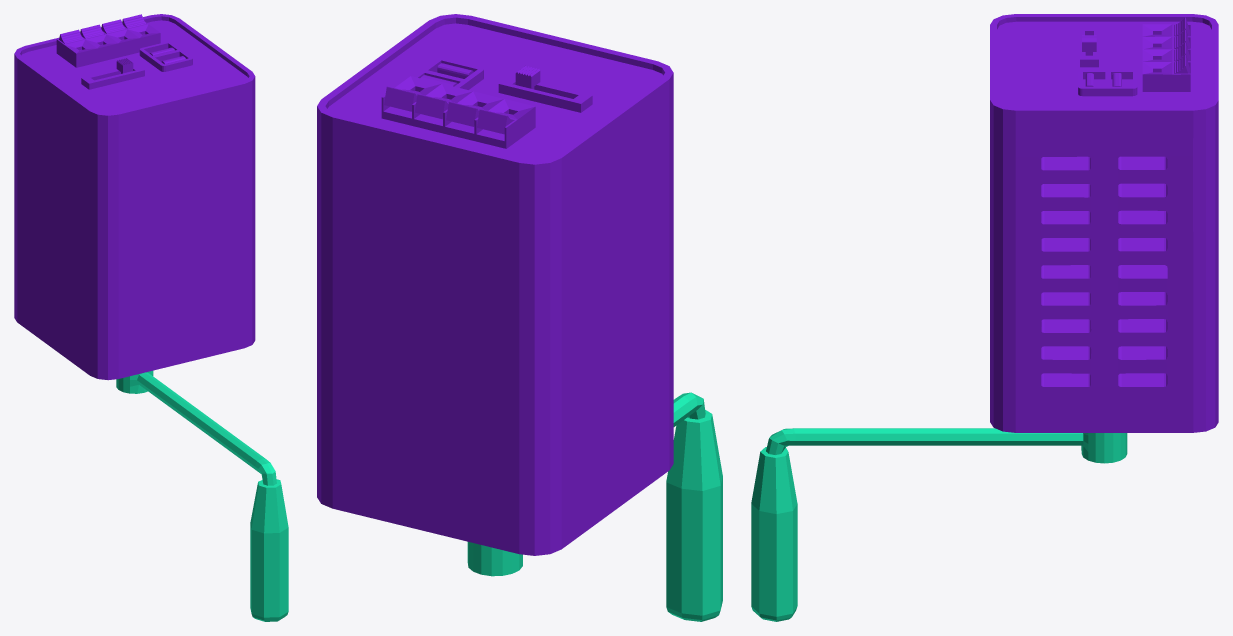
The model's file is DynamoMachine.fbx.
The picture shows the model from 3 angles, left to right: view 1: azimuth 30°, elevation 25°; view 2: azimuth 150°, elevation 25°; view 3: azimuth 270°, elevation 25°; orthographic projection. The views are drawn at different scales.
Visible parts, largest first — view 1: Dynamo, Ruchka; view 2: Dynamo, Ruchka; view 3: Dynamo, Ruchka.
Part boxes in pixels (box(x1,y1,x2,y2)): Dynamo: box(14, 14, 255, 380); Ruchka: box(116, 370, 288, 621); Dynamo: box(317, 14, 673, 555); Ruchka: box(467, 392, 722, 621); Dynamo: box(990, 14, 1218, 432); Ruchka: box(751, 428, 1127, 621).
Size of the model in its own units: 30.98 by 85.53 by 63.28.
